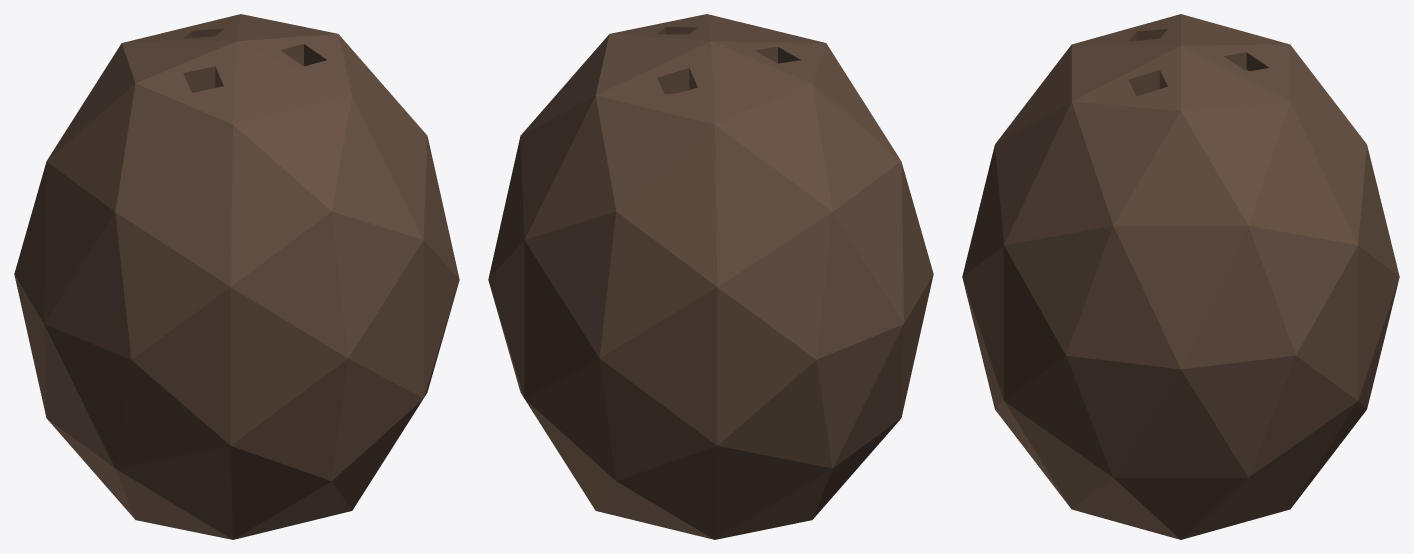
Rendered from Coconut.fbx.
3 renders of one model, left to right at view 1: azimuth 30°, elevation 25°; view 2: azimuth 150°, elevation 25°; view 3: azimuth 270°, elevation 25°, orthographic.
Visible parts, largest first — view 1: Coconut; view 2: Coconut; view 3: Coconut.
Boxes of the visible parts, x1,y1,x2,y2 form: Coconut: [14, 14, 459, 539]; Coconut: [488, 14, 933, 539]; Coconut: [962, 14, 1399, 539].
Bounding box in the file's own units: 10.9 × 12.73 × 10.9.
1 material, 1 textured.
